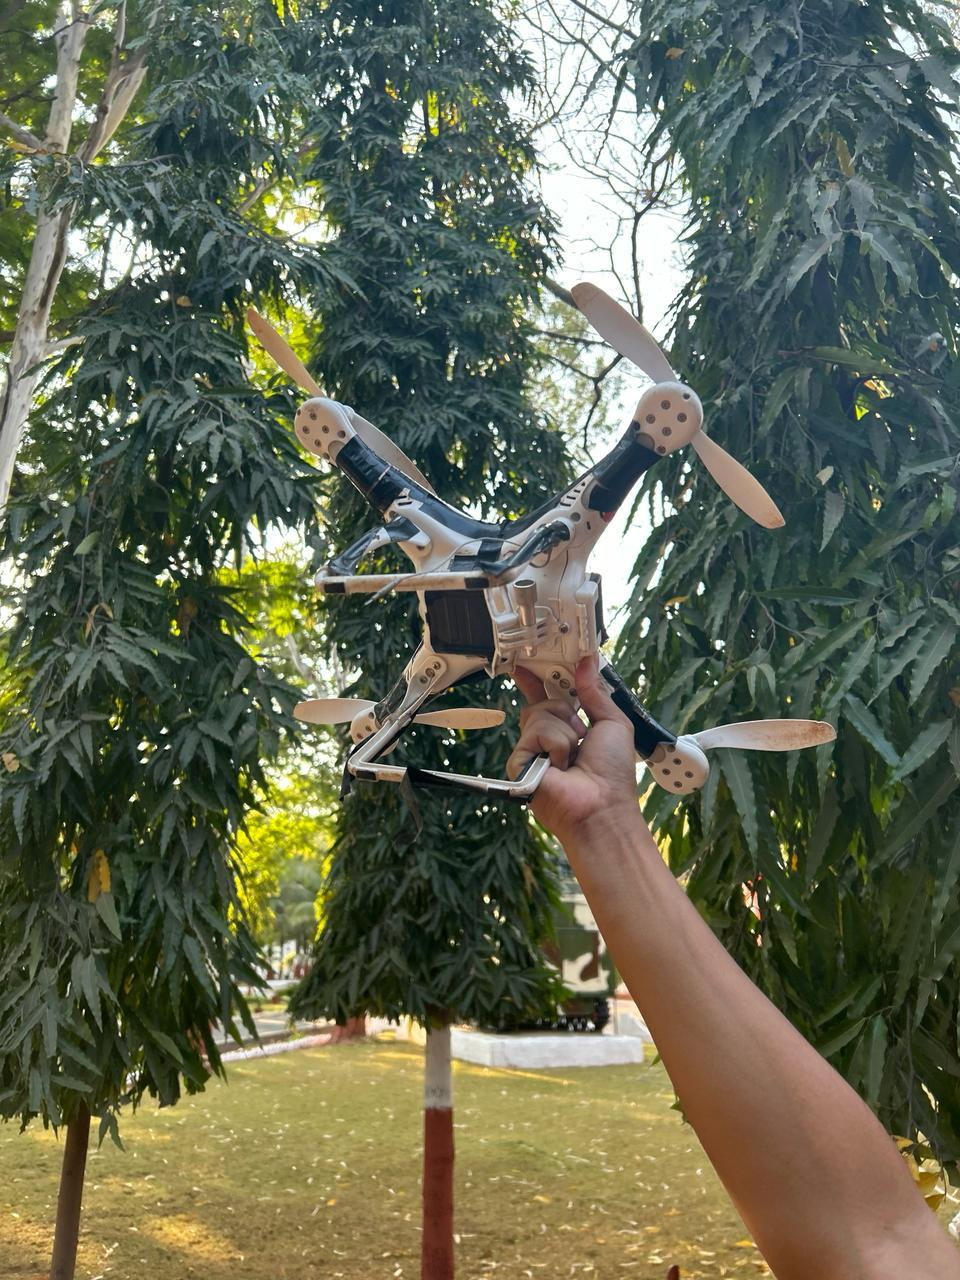drone: (236, 275, 792, 804)
